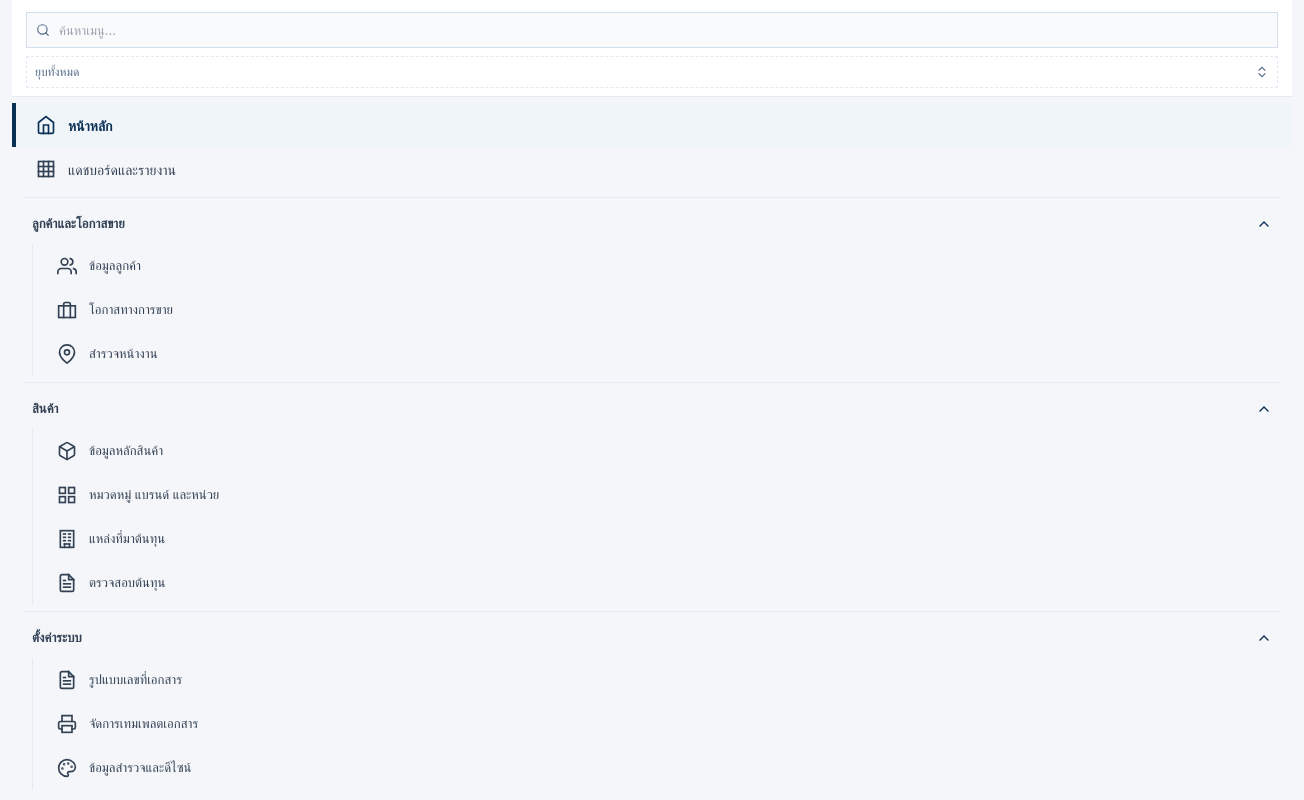
SidebarNav Component › filters menu items in real time when typing in search input
Type "ลูกค้า" into the field with placeholder "ค้นหาเมนู...".
click(652, 30); type("ลูกค้า")  # box [26, 12, 1278, 48]
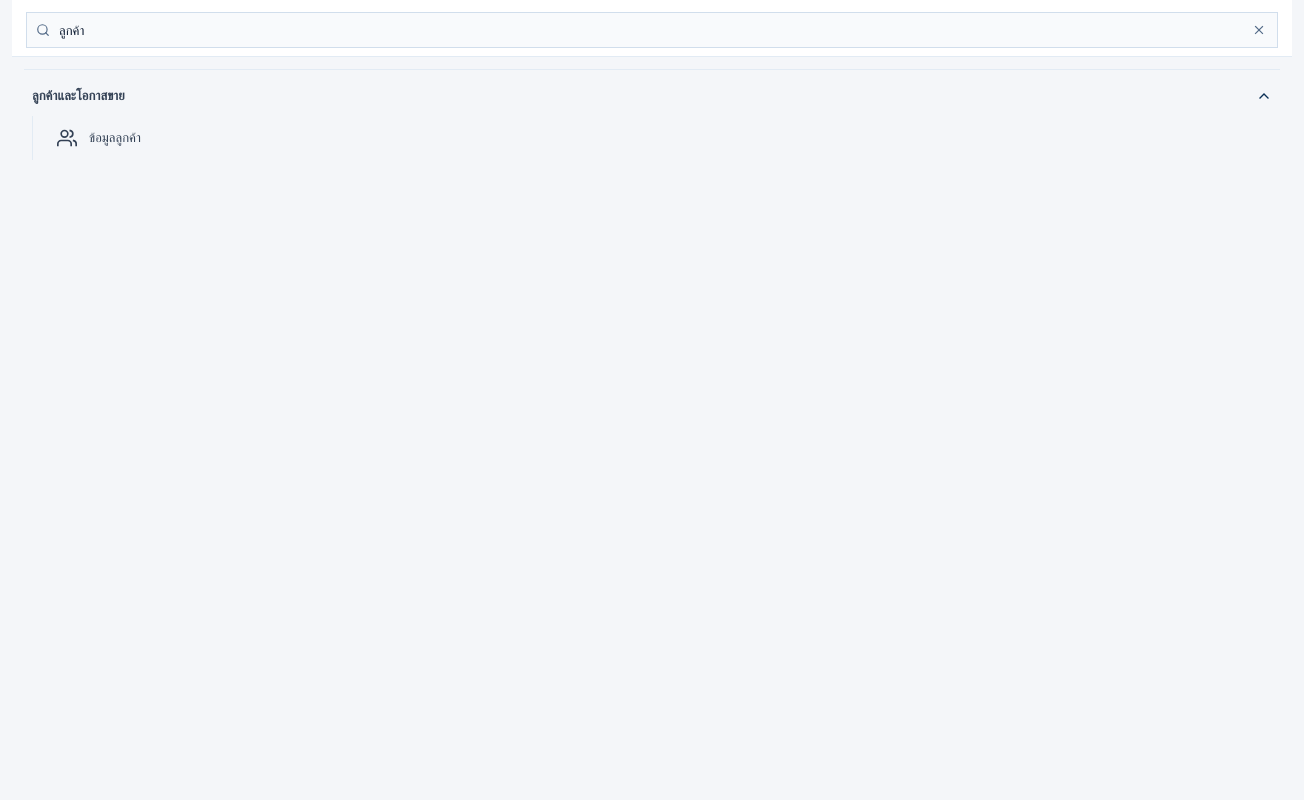
Result: the link "ข้อมูลหลักสินค้า" is gone
Result: the link "รูปแบบเลขที่เอกสาร" is gone
Result: the link "แดชบอร์ดและรายงาน" is gone
// Clear search button should appear and reset when clicked
Click the button named "ล้างการค้นหา".
click(1259, 30)  # box [1248, 19, 1270, 41]
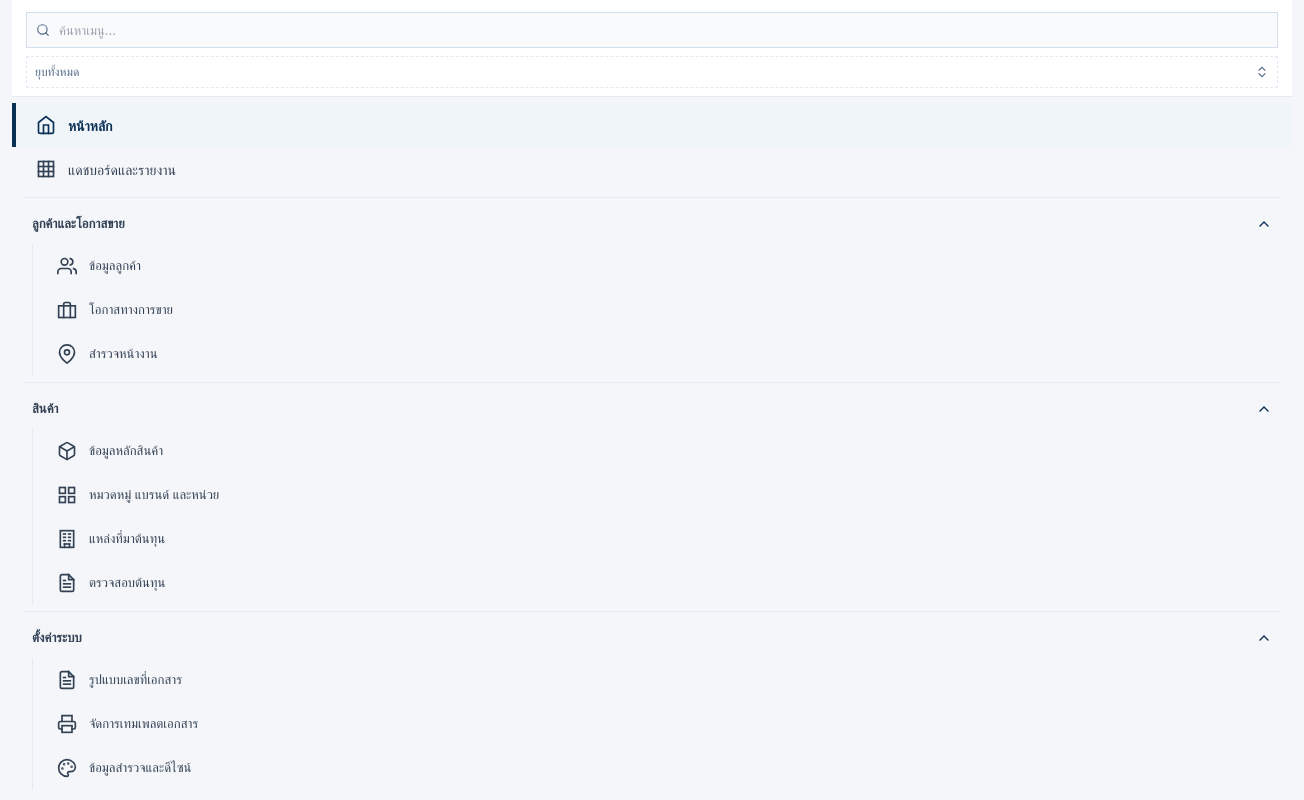
Result: the link "ข้อมูลหลักสินค้า" is shown at [57, 441, 163, 461]
Result: the link "แดชบอร์ดและรายงาน" is shown at [36, 159, 176, 179]
